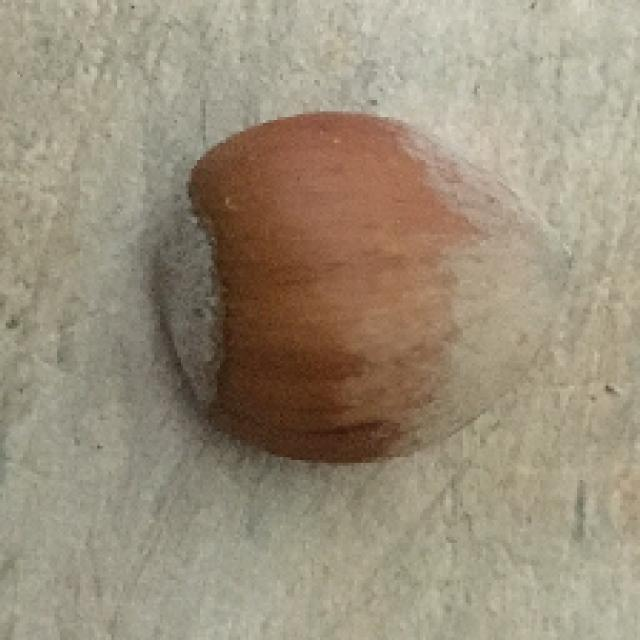qualityHazelnut: (156, 112, 588, 463)
